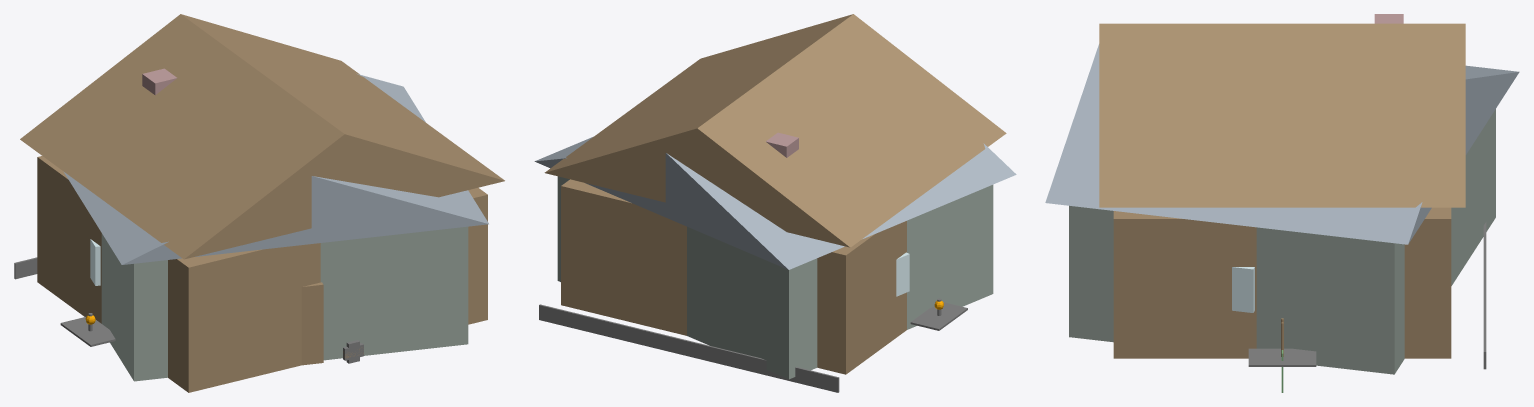
Rendered from house_daedalus.glb.
3 renders of one model, left to right at view 1: azimuth 30°, elevation 25°; view 2: azimuth 150°, elevation 25°; view 3: azimuth 270°, elevation 25°, orthographic. The views are drawn at different scales.
Visible parts, largest first — view 1: daedalus_atap.003, daedalus_dinding.003, daedalus_dinding.002, daedalus_atap.002, daedalus_pintu.001, daedalus_bingkai.001, daedalus_cerobong.001, daedalus_jendela_1.001; view 2: daedalus_atap.003, daedalus_dinding.003, daedalus_dinding.002, daedalus_atap.002, daedalus_bingkai_atas.001, daedalus_bingkai.001, daedalus_jendela_1.001, daedalus_cerobong.001; view 3: daedalus_atap.003, daedalus_dinding.002, daedalus_dinding.003, daedalus_atap.002, daedalus_bingkai2.001, daedalus_jendela_-1.001, daedalus_bingkai_atas.001.
Part boxes in pixels (bbox=[...]): daedalus_atap.003: bbox=[20, 14, 504, 259]; daedalus_dinding.003: bbox=[37, 156, 487, 392]; daedalus_dinding.002: bbox=[101, 226, 468, 381]; daedalus_atap.002: bbox=[63, 73, 488, 264]; daedalus_pintu.001: bbox=[301, 282, 323, 365]; daedalus_bingkai.001: bbox=[60, 317, 115, 346]; daedalus_cerobong.001: bbox=[142, 68, 176, 94]; daedalus_jendela_1.001: bbox=[90, 239, 100, 285]; daedalus_atap.003: bbox=[544, 14, 1006, 247]; daedalus_dinding.003: bbox=[561, 179, 906, 374]; daedalus_dinding.002: bbox=[557, 176, 993, 379]; daedalus_atap.002: bbox=[534, 136, 1016, 269]; daedalus_bingkai_atas.001: bbox=[539, 304, 839, 392]; daedalus_bingkai.001: bbox=[910, 302, 967, 330]; daedalus_jendela_1.001: bbox=[896, 252, 909, 296]; daedalus_cerobong.001: bbox=[766, 132, 798, 157]; daedalus_atap.003: bbox=[1099, 23, 1465, 207]; daedalus_dinding.002: bbox=[1069, 109, 1495, 374]; daedalus_dinding.003: bbox=[1113, 207, 1451, 358]; daedalus_atap.002: bbox=[1045, 44, 1519, 244]; daedalus_bingkai2.001: bbox=[1248, 348, 1316, 366]; daedalus_jendela_-1.001: bbox=[1232, 267, 1254, 312]; daedalus_bingkai_atas.001: bbox=[1483, 222, 1486, 369].
Size of the model in its own units: 10.54 by 6.21 by 9.84.
